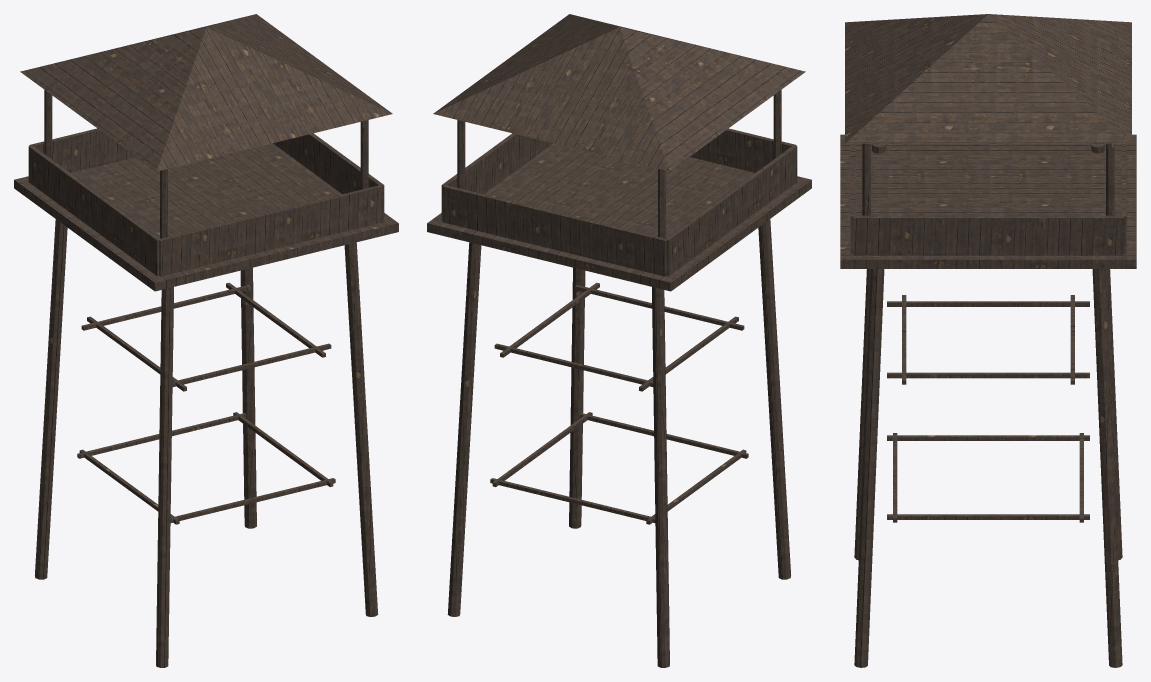
Rendered from watchtower_wood.glb.
3 views of the same model, side by side, from view 1: azimuth 30°, elevation 25°; view 2: azimuth 150°, elevation 25°; view 3: azimuth 270°, elevation 25° (orthographic). The views are drawn at different scales.
Parts seen in each view (by area): view 1: watchtower_wood; view 2: watchtower_wood; view 3: watchtower_wood.
Part boxes in pixels (x1,y1,x2,y2): watchtower_wood: [14, 14, 398, 667]; watchtower_wood: [427, 14, 811, 667]; watchtower_wood: [840, 14, 1136, 667].
Size of the model in its own units: 3.5 by 7.8 by 3.5.
Materials: 1 (1 with a texture image).
